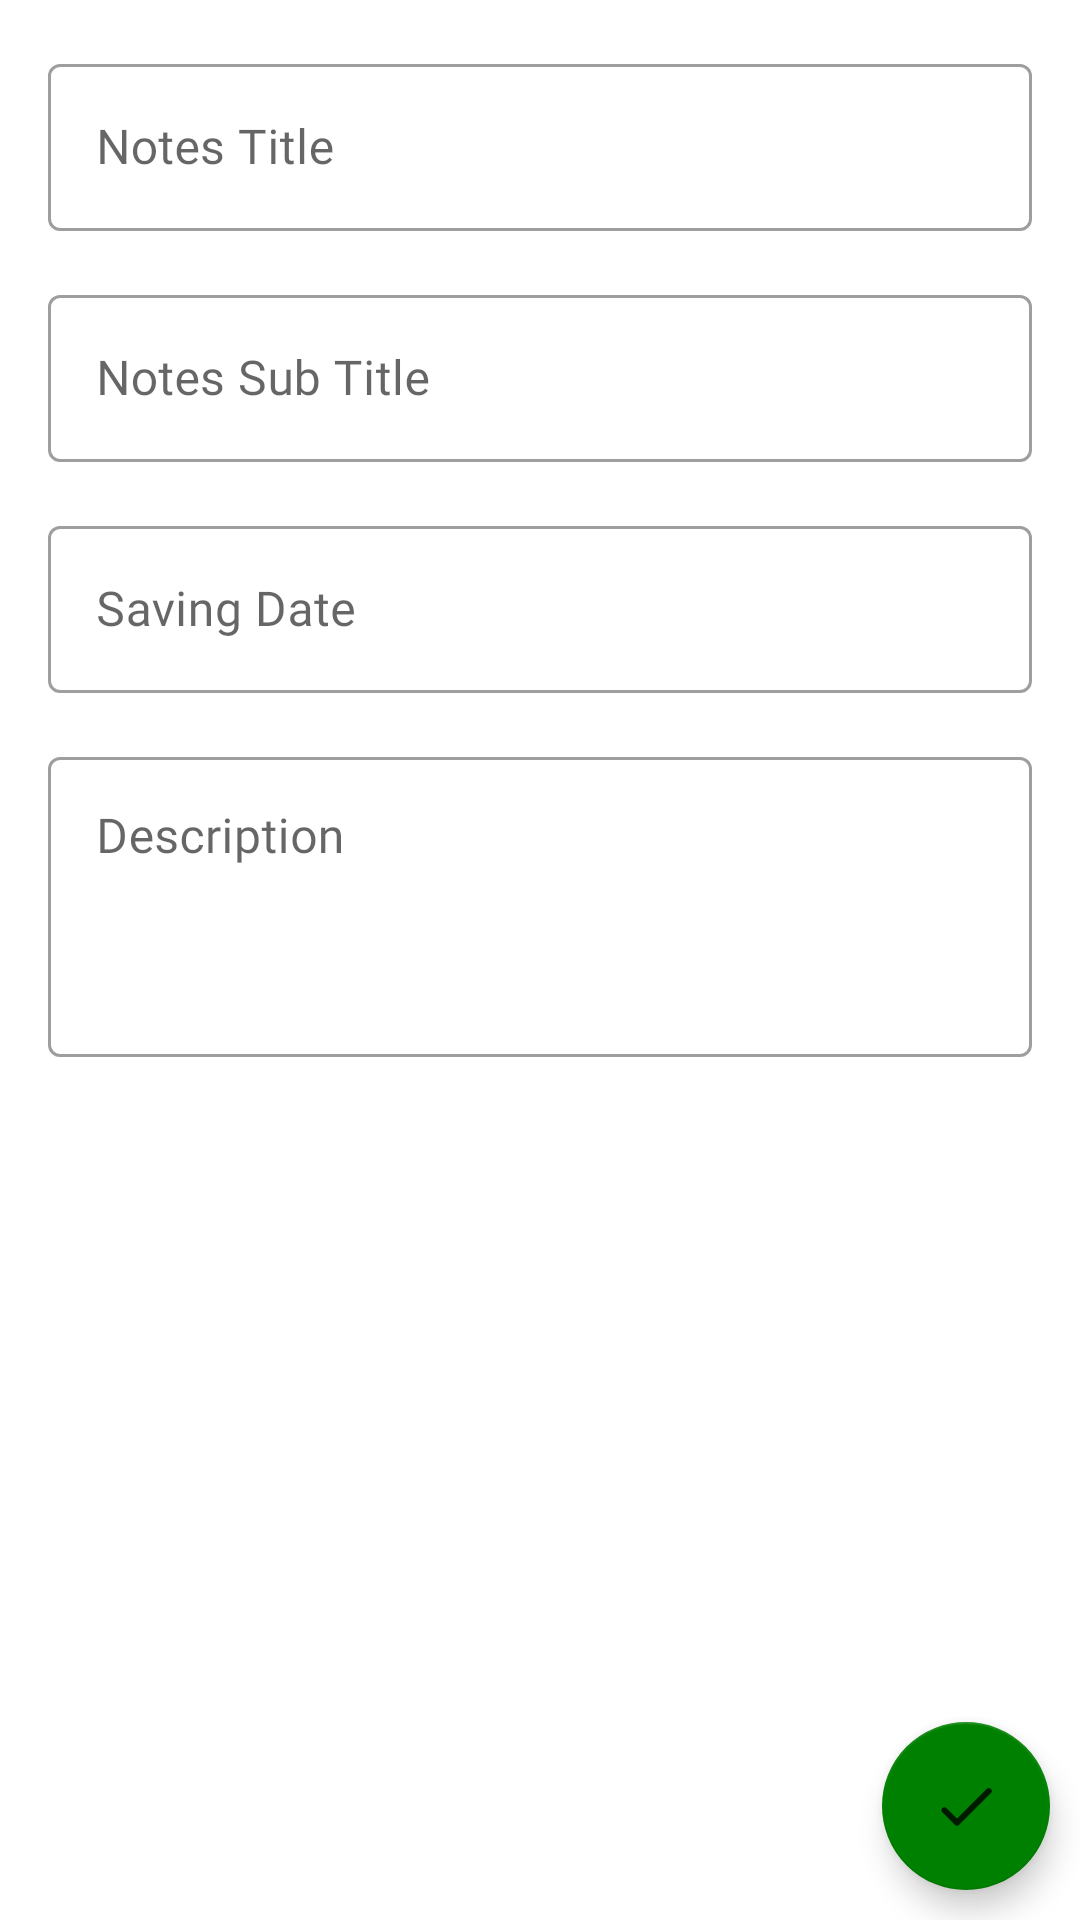

Icon bounding boxes for this 1080x1920 phone screenshot, format (x1, y1, x2, y2):
dones: (882, 1722, 1050, 1890)
